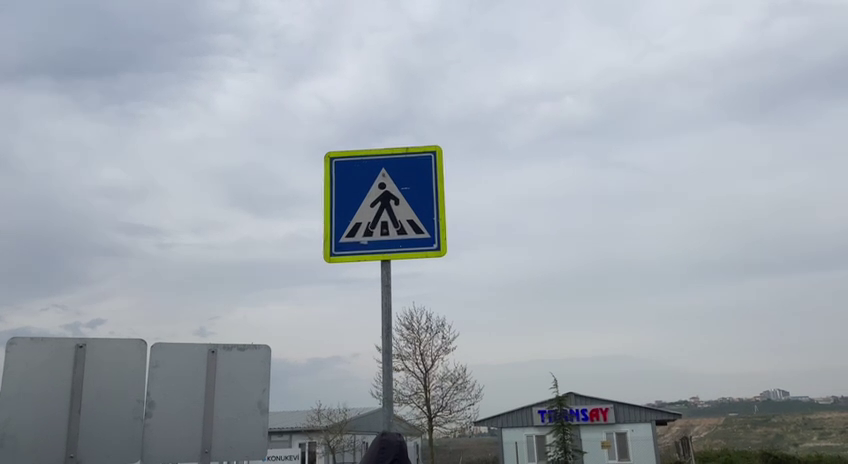pedestrianCrossing: (320, 144, 451, 265)
